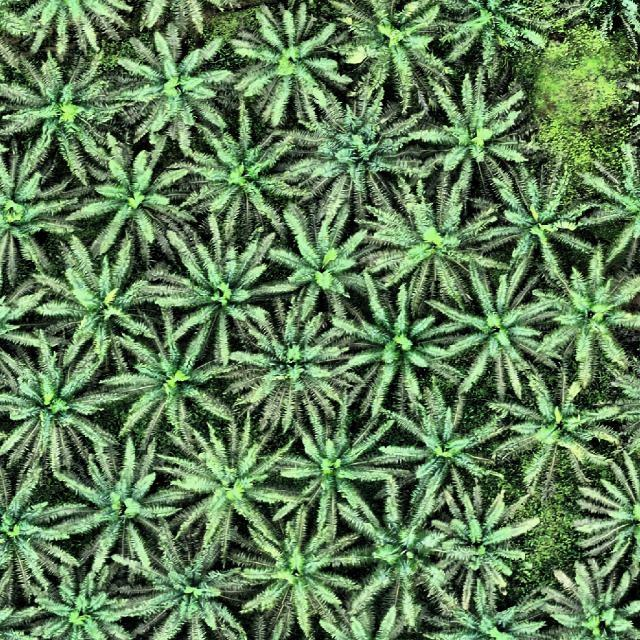Kelapa_Sawit: (386, 389, 500, 522), (174, 432, 284, 568), (46, 238, 160, 366), (495, 379, 616, 498), (344, 484, 452, 614), (260, 201, 376, 322), (243, 314, 359, 434), (280, 404, 382, 540), (434, 481, 542, 603), (162, 244, 282, 350), (9, 60, 119, 174), (358, 286, 453, 416), (260, 512, 356, 640), (64, 453, 167, 570), (439, 80, 536, 204), (126, 34, 227, 146), (452, 271, 540, 398), (12, 366, 111, 478), (130, 339, 226, 453), (384, 202, 486, 308), (308, 113, 419, 210), (556, 255, 640, 383), (499, 180, 598, 288), (248, 14, 348, 119), (189, 118, 286, 226), (94, 153, 188, 261), (18, 556, 128, 640), (146, 545, 238, 640), (358, 9, 452, 100), (565, 462, 640, 570), (544, 556, 640, 640), (0, 478, 67, 595), (0, 152, 56, 280), (426, 584, 554, 640), (456, 0, 548, 73), (16, 0, 138, 55), (600, 146, 640, 260)
